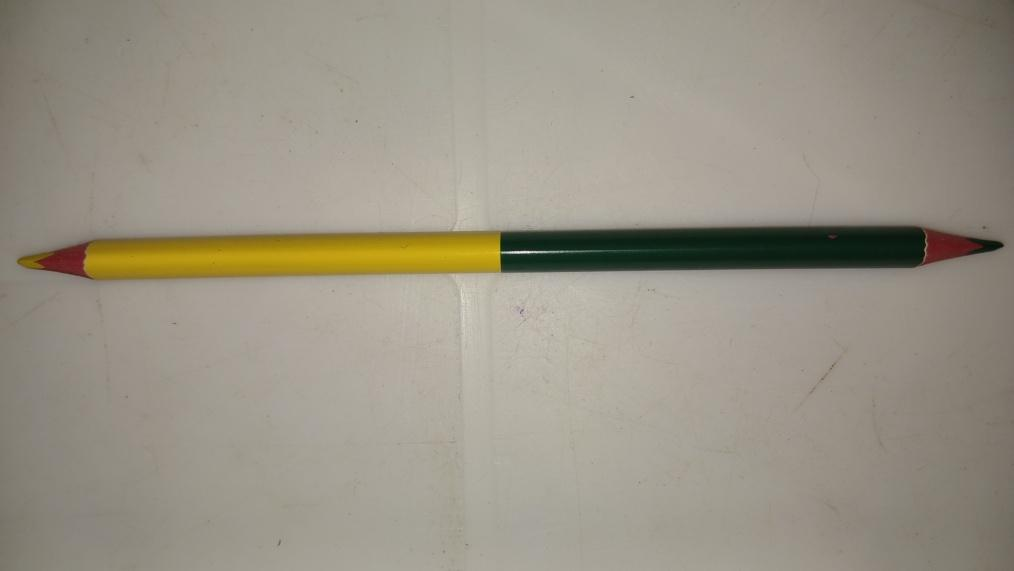Pencil: (17, 229, 1003, 280)
